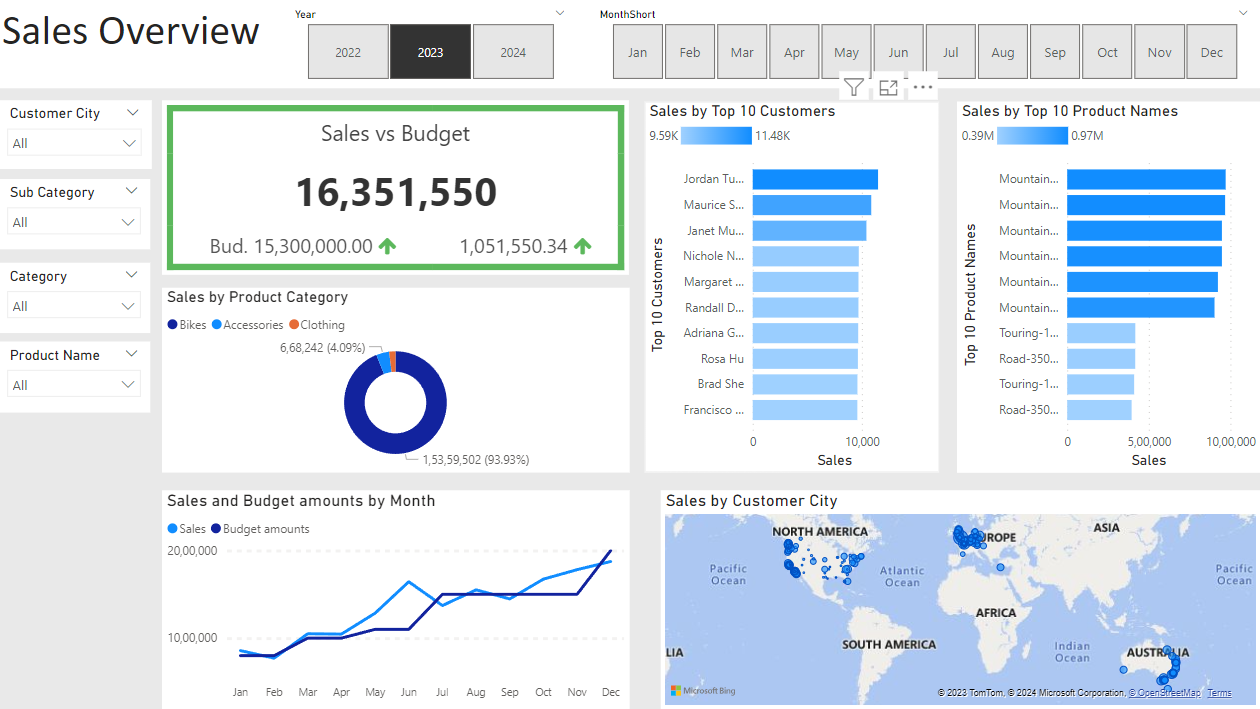

What the dashboard file says about the page in this screenshot:
{"tool":"powerbi","page":{"name":"Sales Overview","canvas":[1280,720],"ordinal":0},"visuals":[{"type":"textbox","box":[0,0,1279.9,90.5],"z":0},{"type":"slicer","fields":{"Values":["DIM_Product_Cleaned.Sub Category"]},"box":[0,182.1,155.2,70.9],"z":1000},{"type":"slicer","fields":{"Values":["DIM_Product_Cleaned.Product Category"]},"box":[0,266.5,155.2,70.9],"z":2000},{"type":"slicer","fields":{"Values":["DIM_Product_Cleaned.Product Name"]},"box":[0,347.2,155.2,72.1],"z":3000},{"type":"slicer","fields":{"Values":["DIM_Calendar_cleaned.MonthShort"]},"box":[597.9,0,682.1,89.8],"z":4000},{"type":"slicer","fields":{"Values":["DIM_Customer_cleaned.Customer City"]},"box":[0,102.7,156.5,69.7],"z":5000},{"type":"BBED0A4D4D8D44CE93CF2DAFADEE466C","fields":{"actual":["Key measures.Sales"],"target1":["Key measures.Budget amounts"],"target2":["Key measures.Sales - Budget"]},"box":[167,102.5,473,176.8],"z":6000},{"type":"donutChart","fields":{"Category":["DIM_Product_Cleaned.Product Category"],"Y":["Key measures.Sales"]},"box":[166.7,292.2,473.3,187.4],"z":7000},{"type":"slicer","fields":{"Values":["DIM_Calendar_cleaned.Date.Variation.Date Hierarchy.Year"]},"box":[289.1,0,298.9,89.8],"z":8000},{"type":"lineChart","fields":{"Category":["DIM_Calendar_cleaned.MonthShort"],"Y":["Key measures.Sales","Key measures.Budget amounts"]},"box":[166.7,497.1,473.3,222.3],"z":9000},{"type":"barChart","fields":{"Category":["DIM_Customer_cleaned.Full Name"],"Y":["Key measures.Sales"]},"box":[655.9,103.2,298.6,376.4],"z":10000},{"type":"barChart","fields":{"Y":["Key measures.Sales"],"Category":["DIM_Product_Cleaned.Product Name"]},"box":[971.9,103.2,308.1,376.4],"z":11000},{"type":"map","fields":{"Category":["DIM_Customer_cleaned.Customer City"],"Size":["Key measures.Sales"]},"box":[671.8,497.1,608.2,222.3],"z":12000}]}

Visuals, with their boxes in screenshot pixels (x1, y1, x2, y2), scaled from the page's 1280x720 canvas onto the 1260x709 screenshot:
textbox: locate(0, 0, 1259, 89)
slicer - DIM_Product_Cleaned.Sub Category: locate(0, 179, 153, 249)
slicer - DIM_Product_Cleaned.Product Category: locate(0, 262, 153, 332)
slicer - DIM_Product_Cleaned.Product Name: locate(0, 342, 153, 413)
slicer - DIM_Calendar_cleaned.MonthShort: locate(589, 0, 1259, 88)
slicer - DIM_Customer_cleaned.Customer City: locate(0, 101, 154, 170)
BBED0A4D4D8D44CE93CF2DAFADEE466C - Key measures.Sales x Key measures.Budget amounts: locate(164, 101, 630, 275)
donutChart - DIM_Product_Cleaned.Product Category x Key measures.Sales: locate(164, 288, 630, 472)
slicer - DIM_Calendar_cleaned.Date.Variation.Date Hierarchy.Year: locate(285, 0, 579, 88)
lineChart - DIM_Calendar_cleaned.MonthShort x Key measures.Sales: locate(164, 490, 630, 708)
barChart - DIM_Customer_cleaned.Full Name x Key measures.Sales: locate(646, 102, 940, 472)
barChart - Key measures.Sales x DIM_Product_Cleaned.Product Name: locate(957, 102, 1259, 472)
map - DIM_Customer_cleaned.Customer City x Key measures.Sales: locate(661, 490, 1259, 708)
